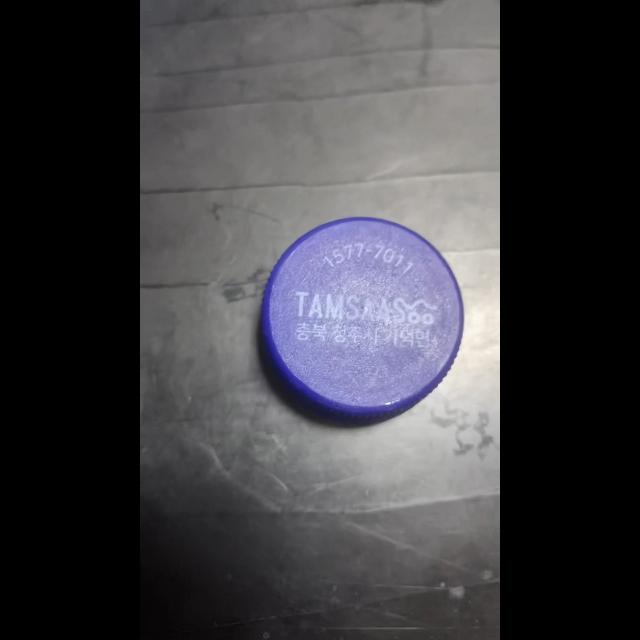plastic_bottle_cap: (254, 207, 471, 426)
